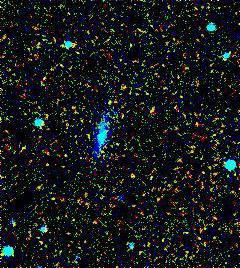star: (120, 161, 150, 191)
